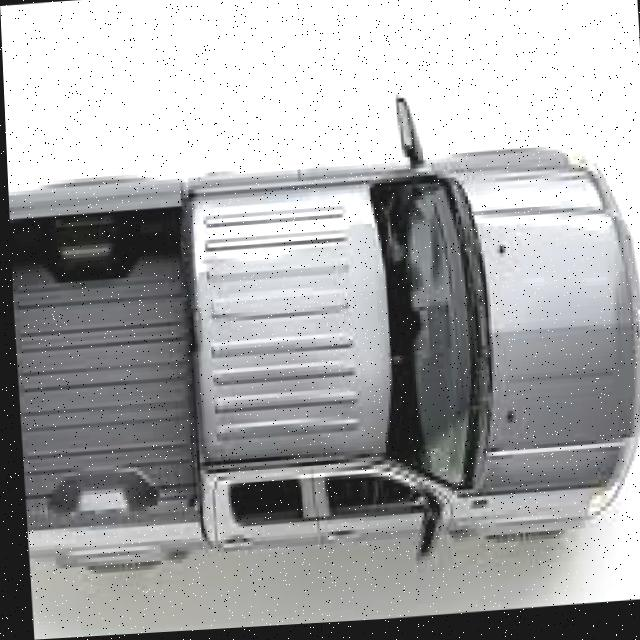truck: (5, 127, 640, 554)
